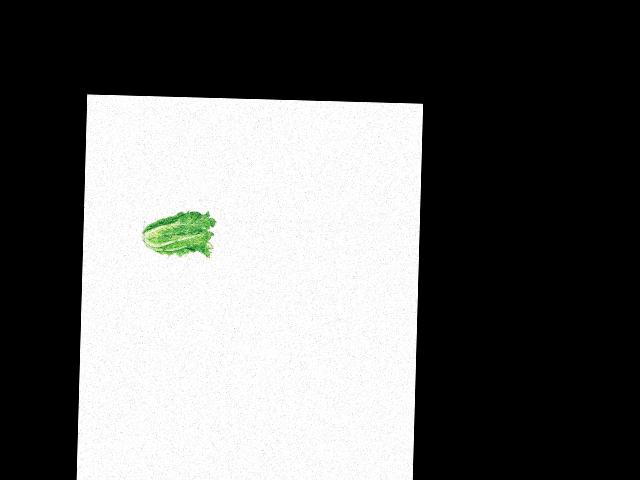lettuce: (142, 209, 216, 260)
